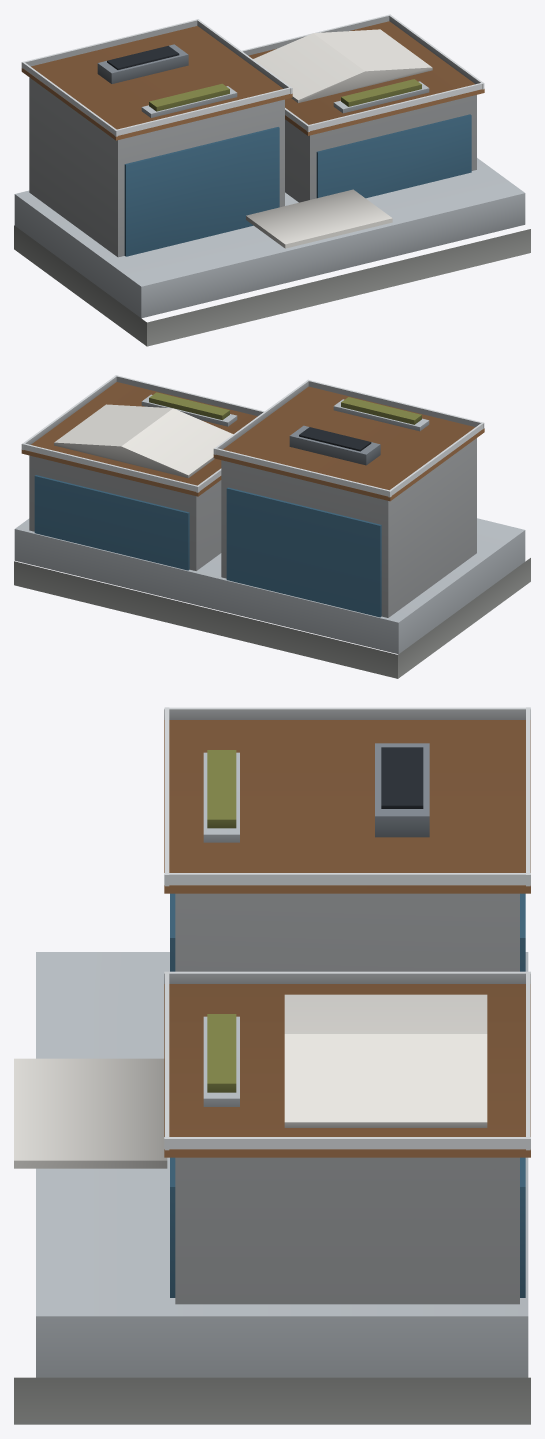
File: research-block-2.glb
3 renders of one model, top to bottom at view 1: azimuth 30°, elevation 25°; view 2: azimuth 150°, elevation 25°; view 3: azimuth 270°, elevation 25°, orthographic. The views are drawn at different scales.
Parts seen in each view (by area): view 1: research-block-2; view 2: research-block-2; view 3: research-block-2.
Part boxes in pixels (left/top/right/bottom): research-block-2: left=14, top=14, right=530, bottom=346; research-block-2: left=14, top=375, right=530, bottom=678; research-block-2: left=14, top=707, right=530, bottom=1424.
Bounding box in the file's own units: 50 × 24 × 30.
